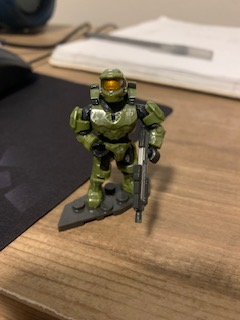chief: (68, 68, 167, 209)
rifle: (130, 129, 158, 225)
spartan: (66, 66, 165, 207)
